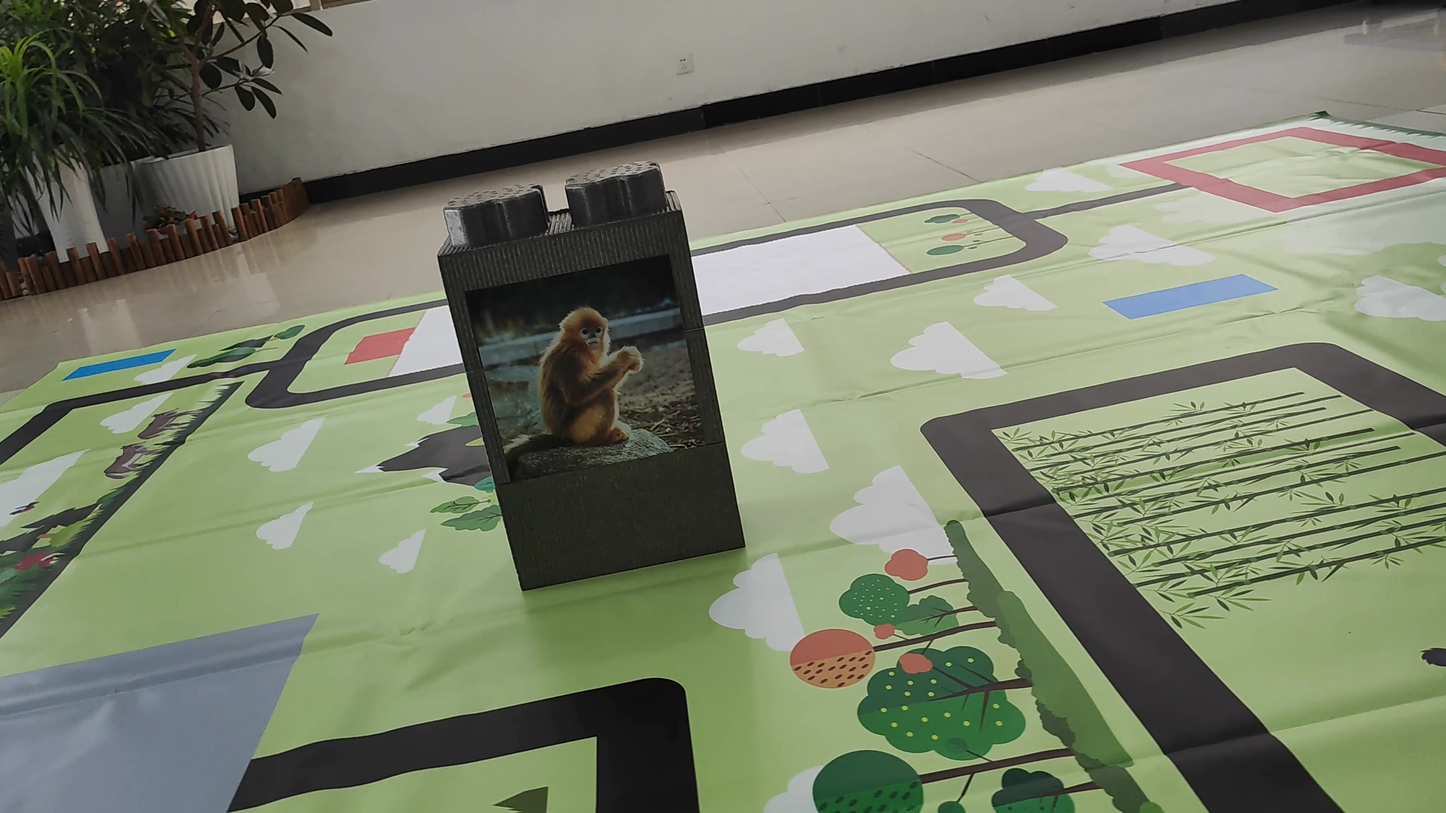monkey: (471, 267, 688, 473)
